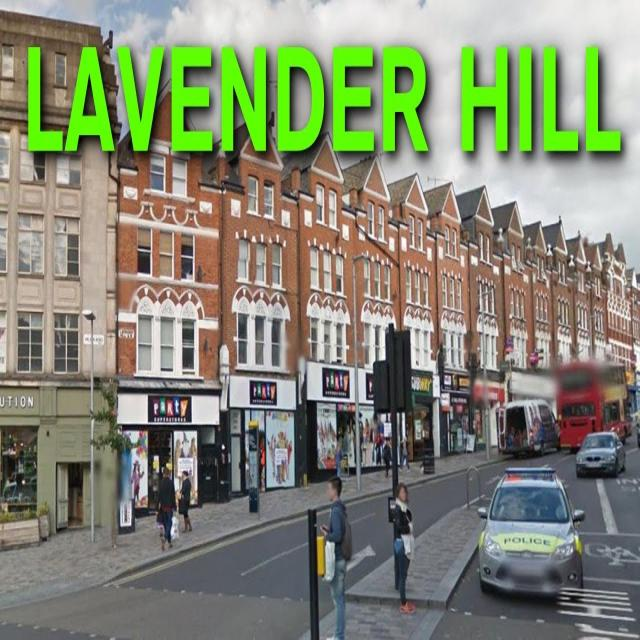Car: (486, 444, 586, 612), (551, 340, 630, 458), (502, 392, 562, 459), (572, 422, 628, 478)
human: (315, 464, 358, 640), (386, 470, 419, 622), (154, 460, 180, 553)
